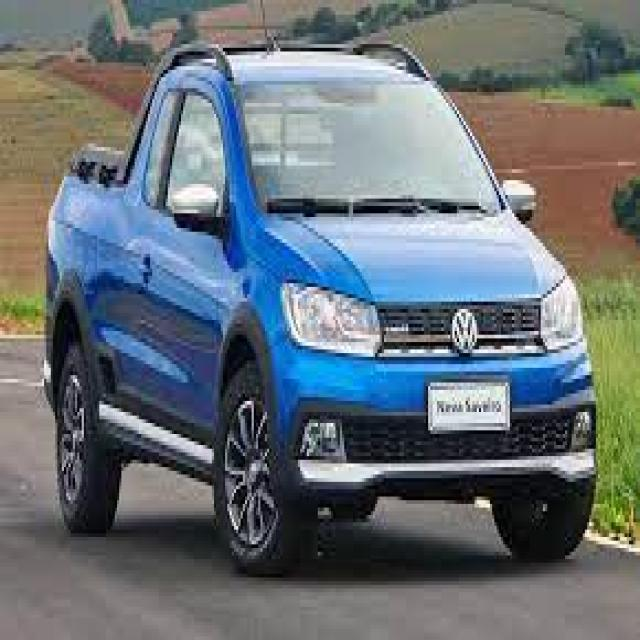Pickup Trucks: (44, 44, 598, 578)
